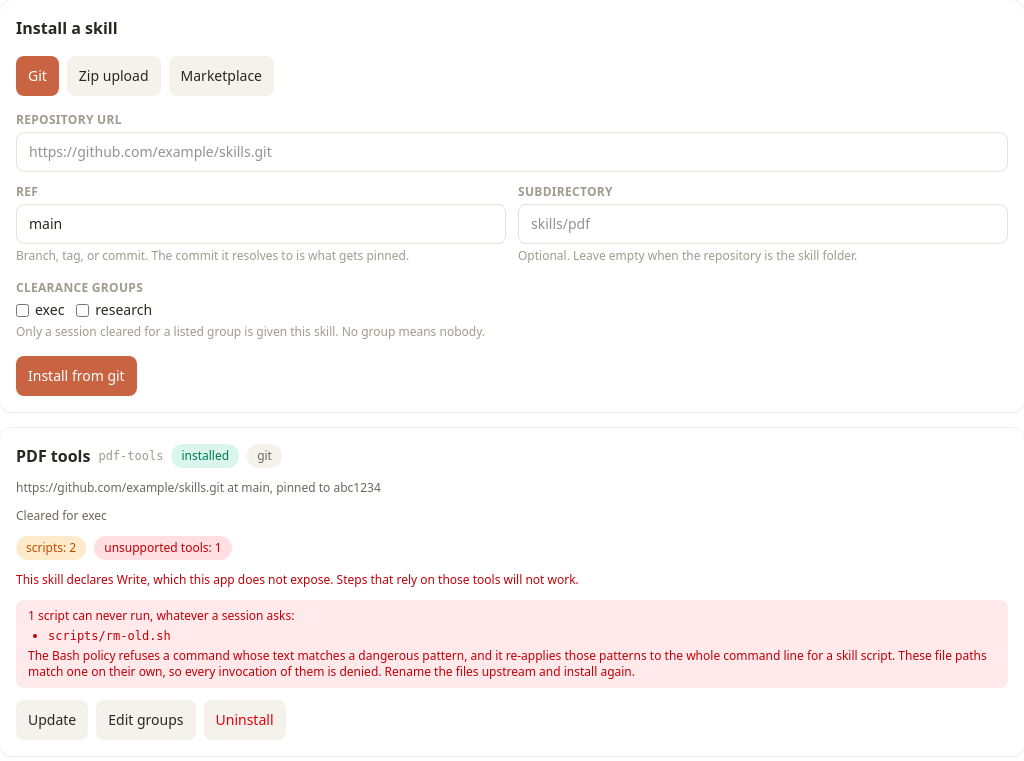
Scenario: SkillsAdmin outcome reporting › shows the old and the new commit after an update
The image size is (1024, 761).
Click the button with aria-label "Update pdf-tools".
click(52, 720)  # box [16, 700, 88, 740]
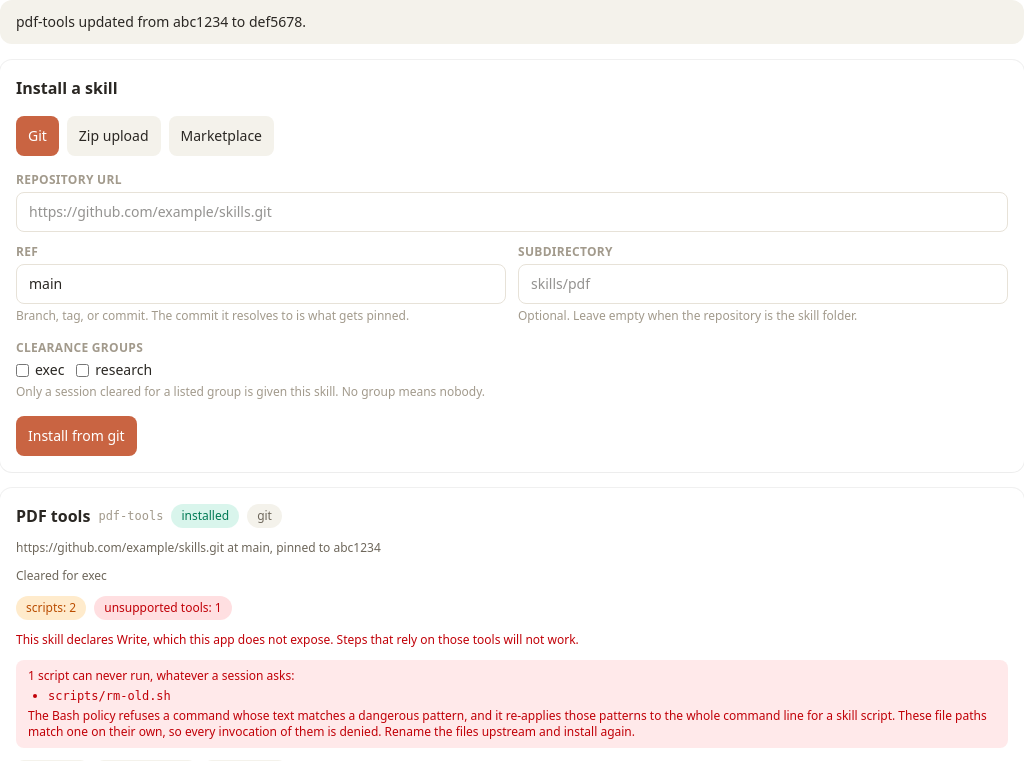
Result: the message shows "abc1234" at [16, 12, 306, 31]
Result: the message shows "def5678" at [16, 12, 306, 31]
